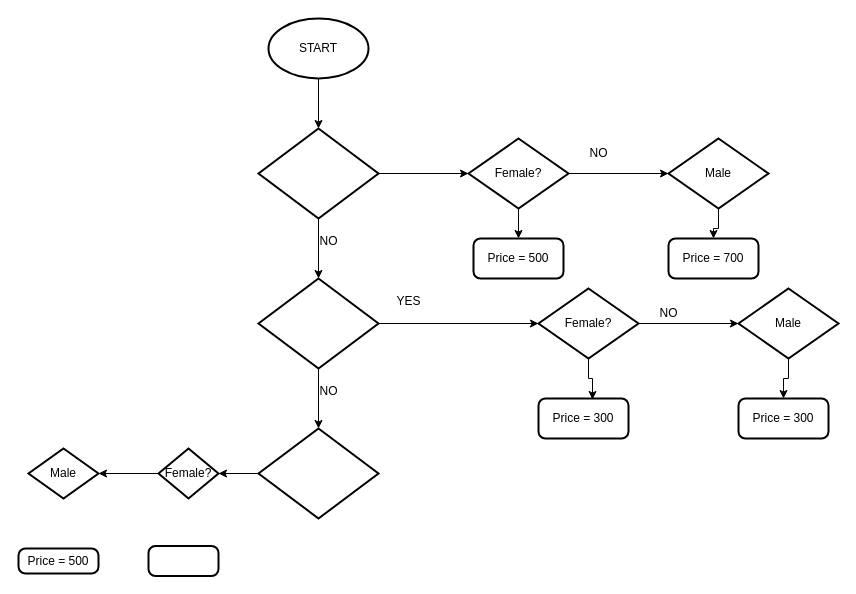
This 856x594 diagram has some shape labels left out. Each missing label, with the centre of its shape:
Is clothing jeans?: pixel 318 173
Is clothing shirts?: pixel 318 323
Is clothing underwears?: pixel 318 473
Price = 900: pixel 183 560
